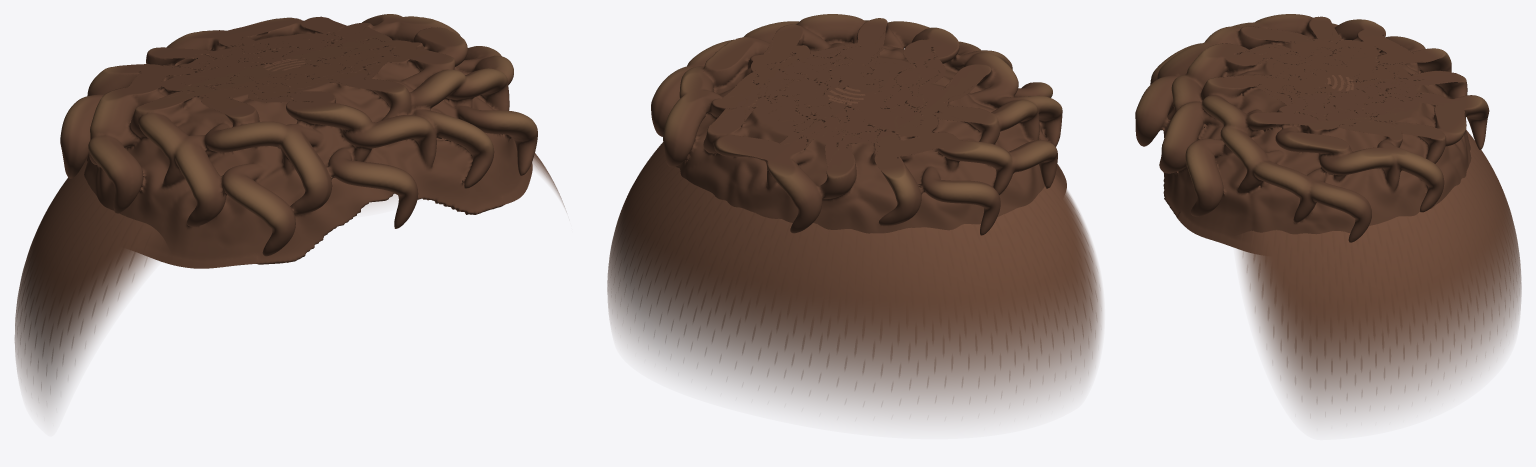
File: Masculine-curly-top-bucket258-hair-ombre.glb
3 views of the same model, side by side, from view 1: azimuth 30°, elevation 25°; view 2: azimuth 150°, elevation 25°; view 3: azimuth 270°, elevation 25° (orthographic). The views are drawn at different scales.
Visible parts, largest first — view 1: 226 hair / Hair252 / sculpted curl groups, 226 hair / Hair258 / smooth side fade, 226 hair / Hair258 / directional fade marks; view 2: 226 hair / Hair258 / smooth side fade, 226 hair / Hair252 / sculpted curl groups, 226 hair / Hair258 / directional fade marks; view 3: 226 hair / Hair252 / sculpted curl groups, 226 hair / Hair258 / smooth side fade, 226 hair / Hair258 / directional fade marks.
Boxes of the visible parts, bbox=[...] form: 226 hair / Hair252 / sculpted curl groups: bbox=[60, 14, 537, 268]; 226 hair / Hair258 / smooth side fade: bbox=[15, 59, 566, 412]; 226 hair / Hair258 / directional fade marks: bbox=[15, 157, 534, 387]; 226 hair / Hair258 / smooth side fade: bbox=[607, 87, 1102, 418]; 226 hair / Hair252 / sculpted curl groups: bbox=[651, 14, 1066, 235]; 226 hair / Hair258 / directional fade marks: bbox=[616, 142, 1097, 391]; 226 hair / Hair252 / sculpted curl groups: bbox=[1135, 14, 1489, 254]; 226 hair / Hair258 / smooth side fade: bbox=[1236, 75, 1521, 420]; 226 hair / Hair258 / directional fade marks: bbox=[1241, 132, 1516, 400].
Size of the model in its own units: 0.9705 by 0.6147 by 0.7492.
